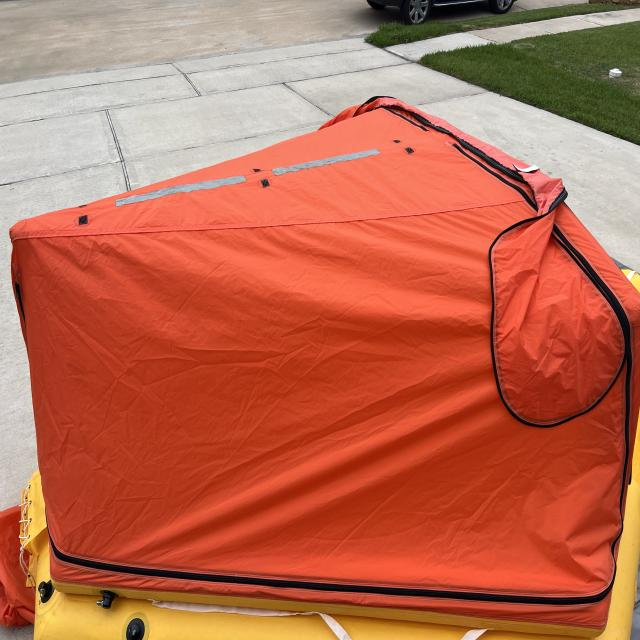Multi-person_life_raft: (0, 95, 640, 639)
